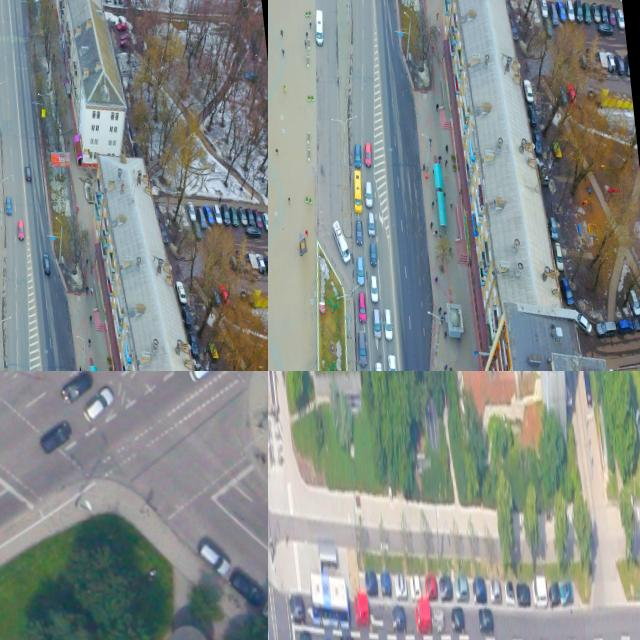UAI: (226, 567, 265, 612), (79, 384, 117, 426), (197, 539, 231, 578), (37, 420, 74, 455), (57, 371, 93, 405), (352, 590, 370, 628), (414, 600, 432, 635), (287, 591, 305, 624), (531, 573, 548, 607), (476, 604, 494, 635), (184, 371, 226, 384), (355, 329, 369, 367), (471, 573, 487, 606), (381, 305, 395, 342), (390, 603, 406, 633), (356, 290, 369, 325), (354, 255, 368, 286), (449, 606, 465, 633), (438, 574, 453, 602), (370, 307, 382, 341), (424, 572, 438, 601), (259, 594, 268, 639), (559, 579, 574, 606), (454, 575, 469, 602), (632, 404, 640, 454), (581, 371, 592, 407), (394, 571, 408, 599), (488, 576, 502, 603), (364, 569, 378, 596), (408, 572, 421, 601), (379, 569, 392, 598), (515, 582, 530, 607), (548, 578, 561, 606), (363, 179, 375, 209), (367, 240, 379, 269), (431, 607, 444, 633), (368, 275, 380, 303), (362, 140, 374, 167), (40, 251, 52, 277), (353, 219, 365, 245), (352, 142, 363, 170), (366, 211, 377, 237), (504, 578, 515, 604), (15, 216, 26, 241), (386, 352, 399, 371), (4, 193, 13, 216), (23, 161, 32, 183), (298, 628, 313, 640), (372, 360, 386, 371), (337, 633, 355, 640)
car: (308, 566, 351, 632)
harvester: (331, 216, 351, 262), (350, 168, 366, 216), (312, 9, 327, 50)
